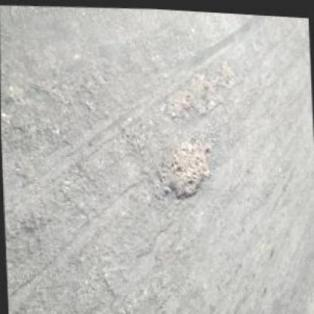Hueco: (160, 54, 235, 123), (155, 130, 214, 202)
